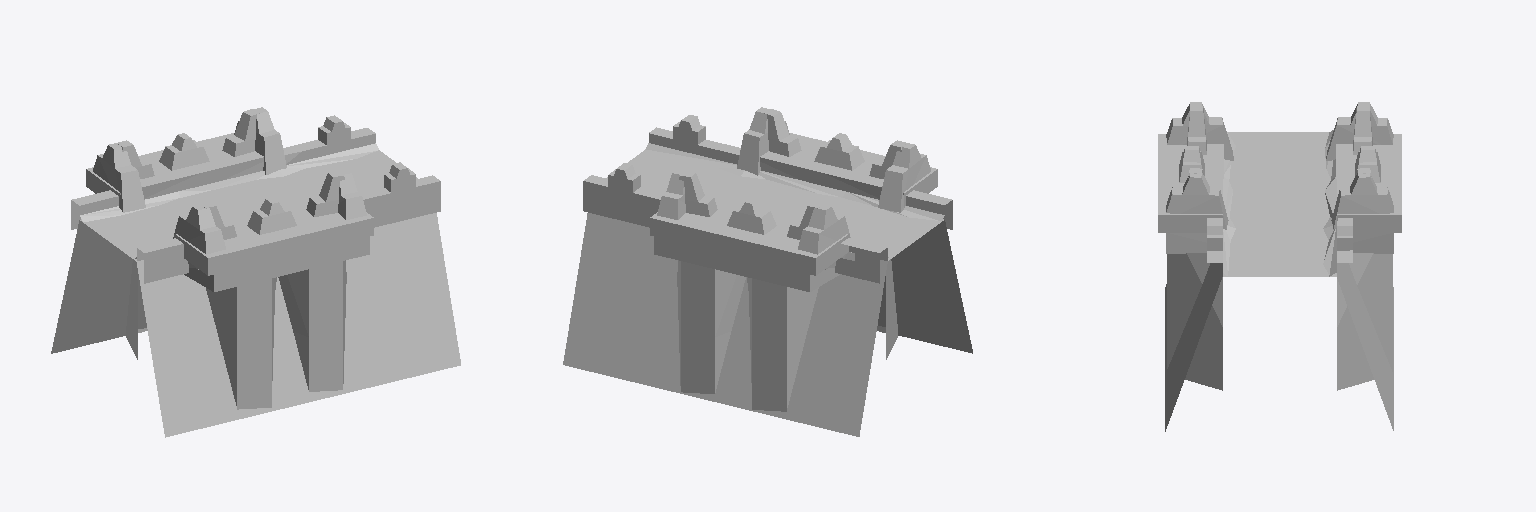
Rendered from templeStraightHorz4_prefab.obj.
The picture shows the model from 3 angles: view 1: azimuth 30°, elevation 25°; view 2: azimuth 150°, elevation 25°; view 3: azimuth 270°, elevation 25°; orthographic projection.
Visible parts, largest first — view 1: Object92-Pivot; view 2: Object92-Pivot; view 3: Object92-Pivot.
Part boxes in pixels (bbox=[...]): Object92-Pivot: bbox=[51, 107, 460, 437]; Object92-Pivot: bbox=[563, 107, 972, 436]; Object92-Pivot: bbox=[1158, 102, 1401, 431].
Bounding box in the file's own units: 60 × 40.06 × 42.8.